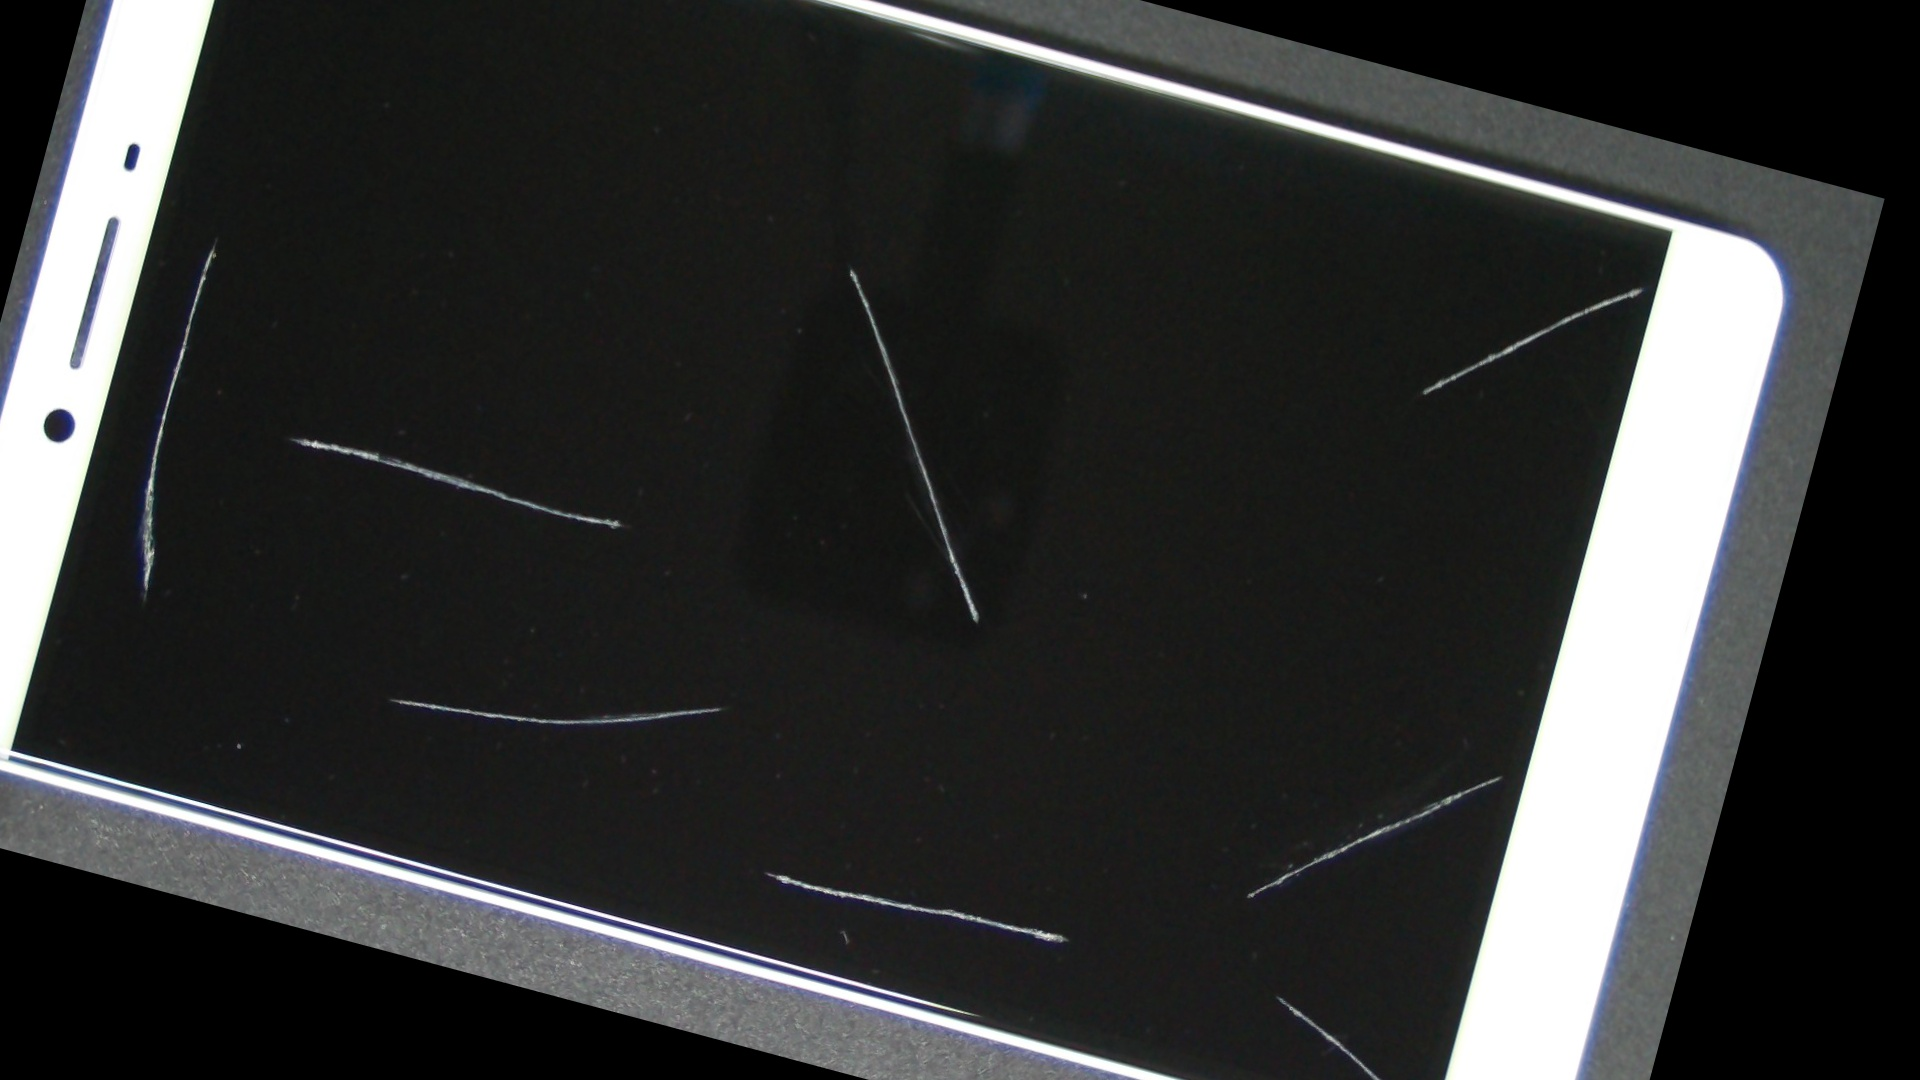oil: (440, 335, 1749, 1080), (662, 256, 1800, 1080), (549, 364, 1766, 1080), (253, 222, 1205, 1080), (417, 3, 1283, 533), (864, 11, 1866, 410), (103, 94, 647, 808), (65, 0, 367, 488)
